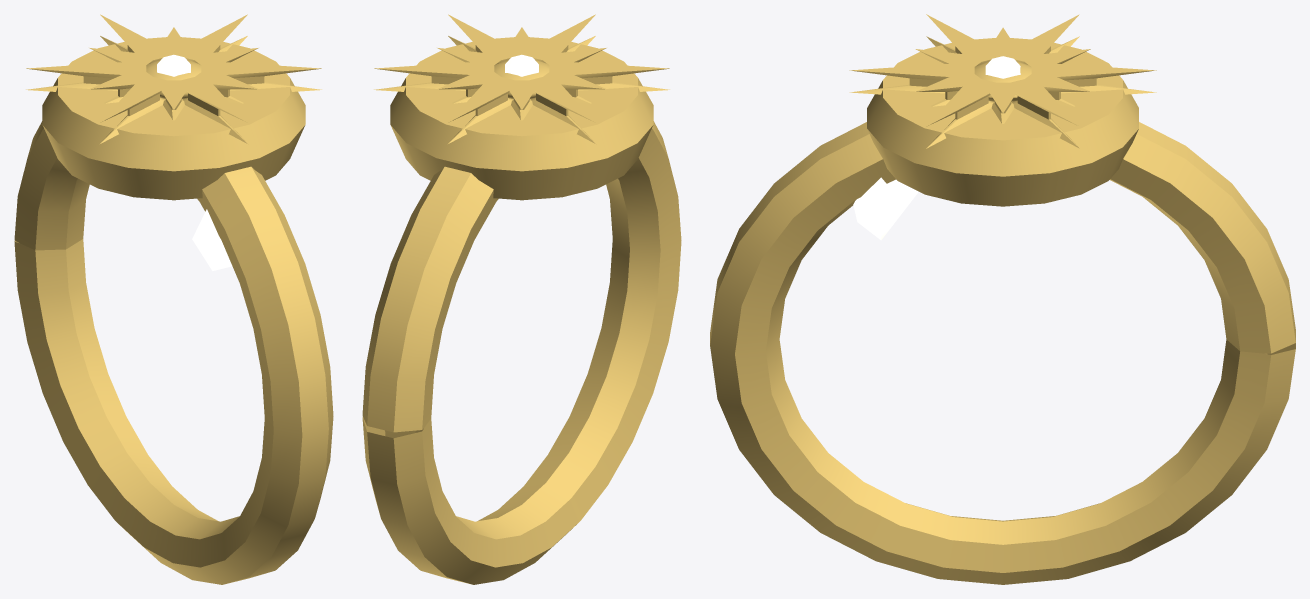
File: asc_hierophant_accessory.glb
The picture shows the model from 3 angles, left to right: view 1: azimuth 30°, elevation 25°; view 2: azimuth 150°, elevation 25°; view 3: azimuth 270°, elevation 25°; orthographic projection. The views are drawn at different scales.
Visible parts, largest first — view 1: asc_hierophant_accessory; view 2: asc_hierophant_accessory; view 3: asc_hierophant_accessory.
Part boxes in pixels (x1,y1,x2,y2): asc_hierophant_accessory: (14,14,333,584); asc_hierophant_accessory: (362,14,681,584); asc_hierophant_accessory: (710,14,1295,584).
Bounding box in the file's own units: 0.068 × 0.141 × 0.1442.
